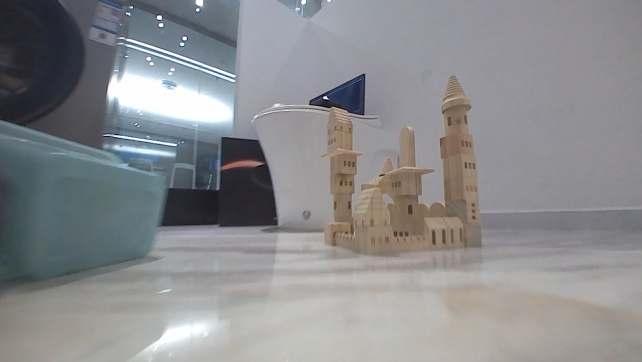plastic_toy: (318, 73, 481, 258)
toilet: (250, 102, 398, 231)
washing_machine1: (0, 0, 124, 150)
